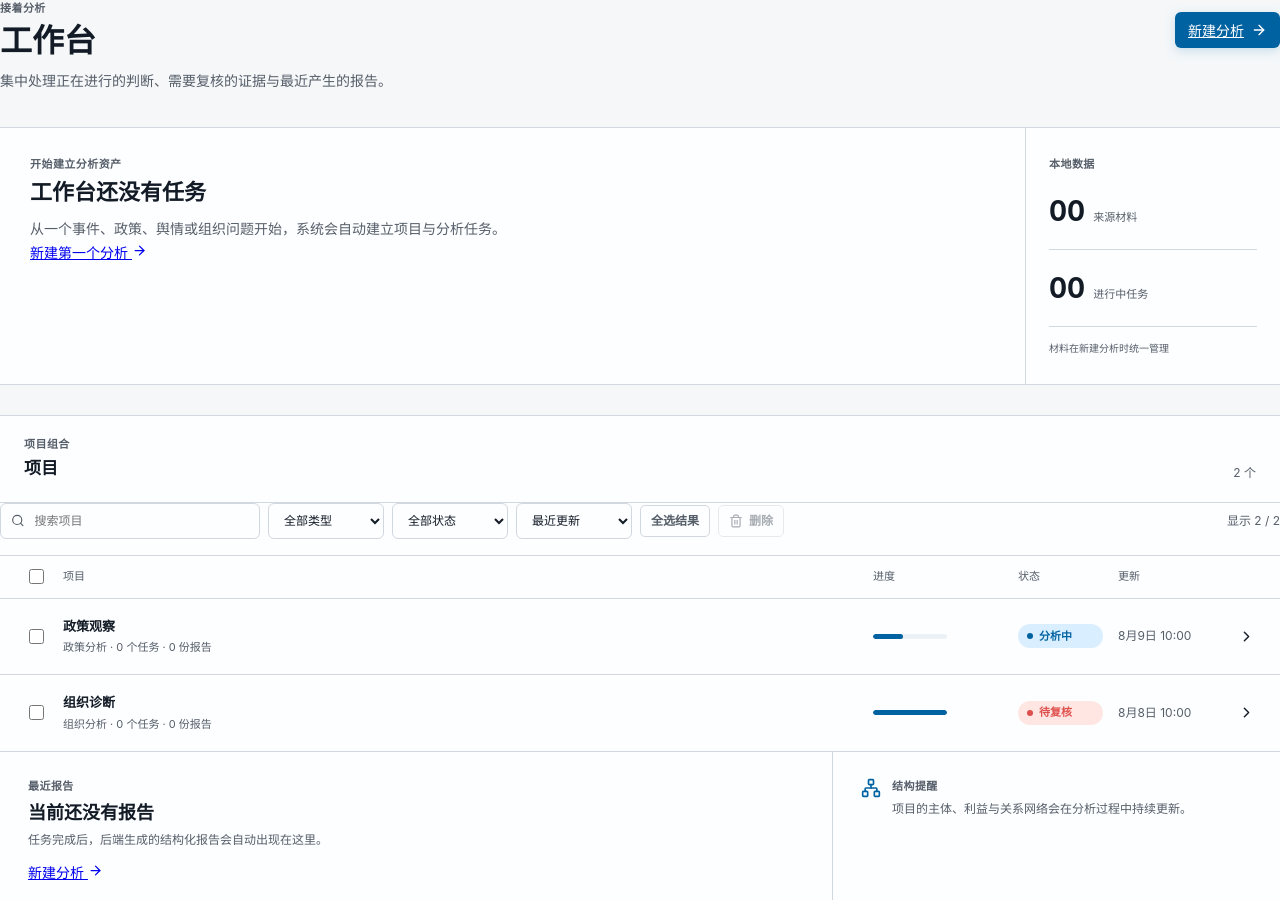
Test case: DashboardScreen › keeps the project directory available even when no task is running
Expected: the heading "项目" is shown, [24,458,58,478]
Expected: the text "政策观察" is shown, [63,618,115,634]
Type "政策" into the field labelled "搜索项目" at (141, 520), box [33,510,249,530]
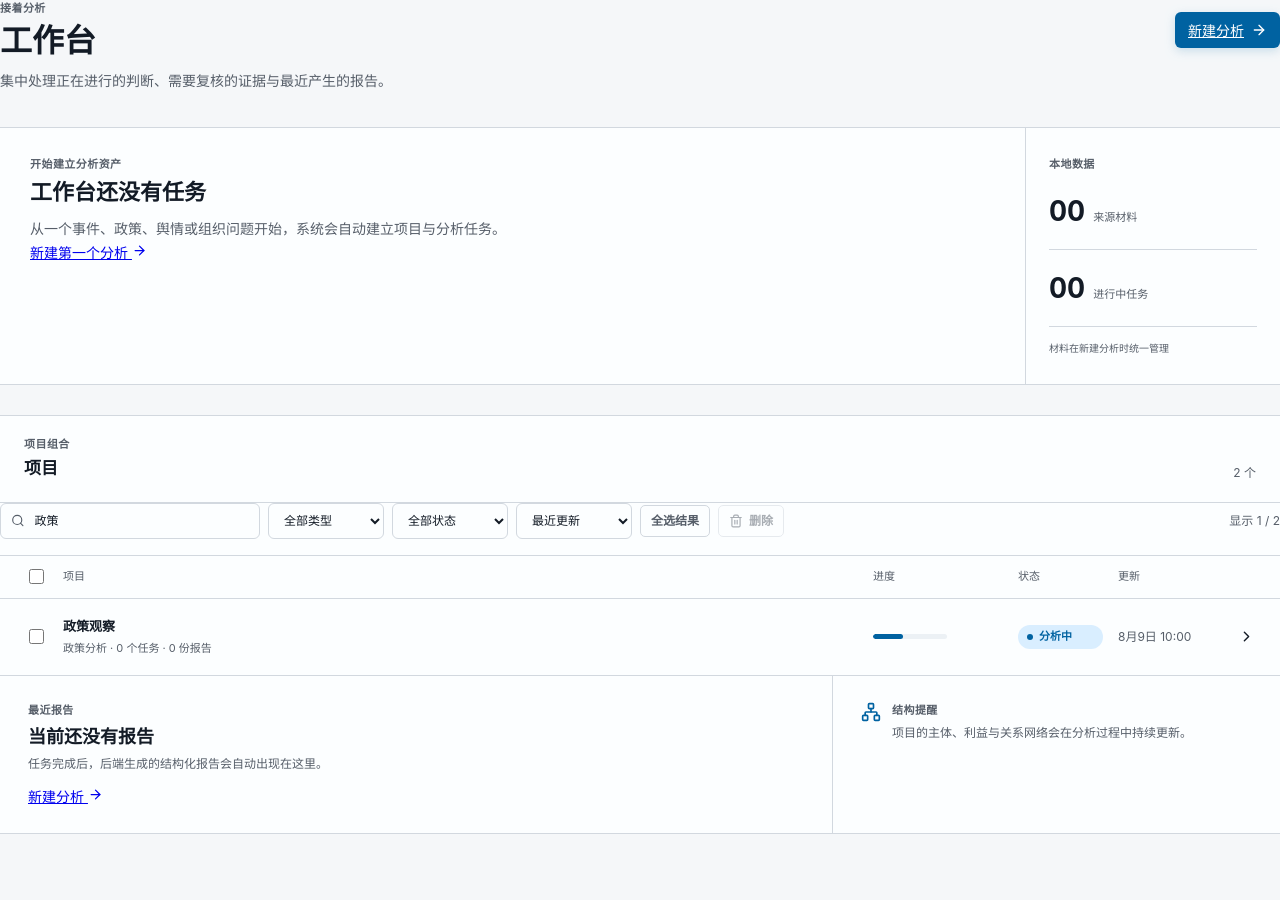
Expected: the text "政策观察" is shown, [63,618,115,634]
Now the link "组织诊断" is gone
